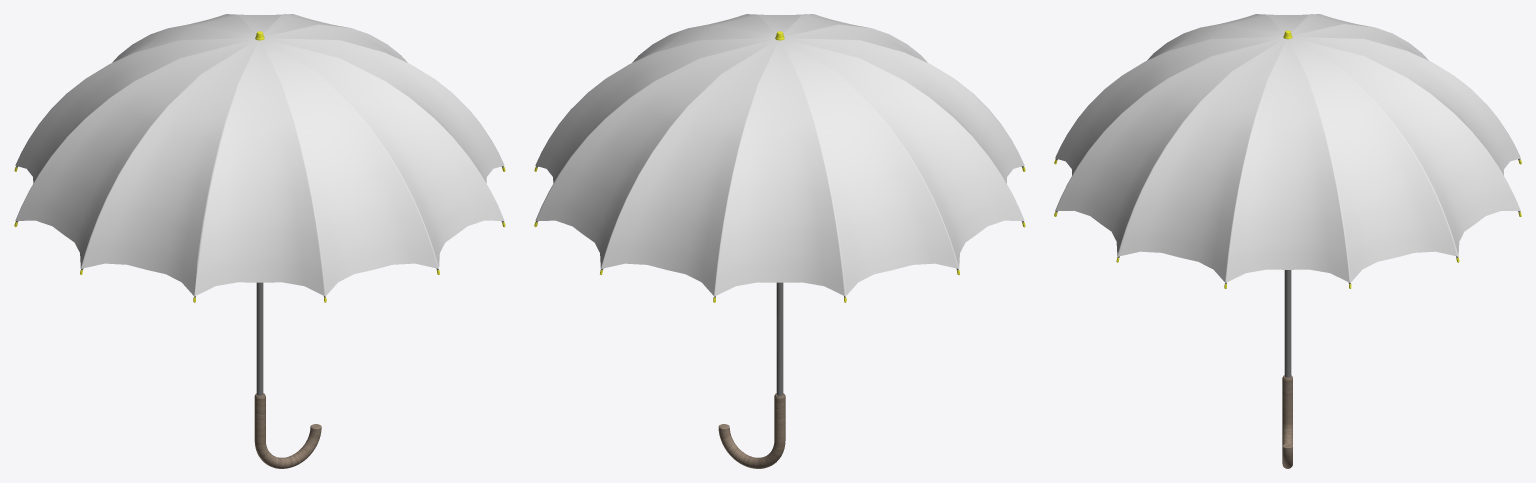
Rendered from umbrella.fbx.
3 renders of one model, left to right at view 1: azimuth 30°, elevation 25°; view 2: azimuth 150°, elevation 25°; view 3: azimuth 270°, elevation 25°, orthographic. The views are drawn at different scales.
Visible parts, largest first — view 1: Fabric, Handle, Frame; view 2: Fabric, Handle, Frame; view 3: Fabric, Frame, Handle.
Part boxes in pixels (x1=…): Fabric: x1=15, y1=14, x2=504, y2=296; Handle: x1=254, y1=393, x2=321, y2=468; Frame: x1=14, y1=31, x2=505, y2=395; Fabric: x1=535, y1=14, x2=1024, y2=296; Handle: x1=718, y1=393, x2=785, y2=468; Frame: x1=534, y1=31, x2=1025, y2=395; Fabric: x1=1055, y1=14, x2=1520, y2=282; Frame: x1=1054, y1=30, x2=1521, y2=377; Handle: x1=1282, y1=375, x2=1292, y2=468.
Bounding box in the file's own units: 378 × 375 × 378.
